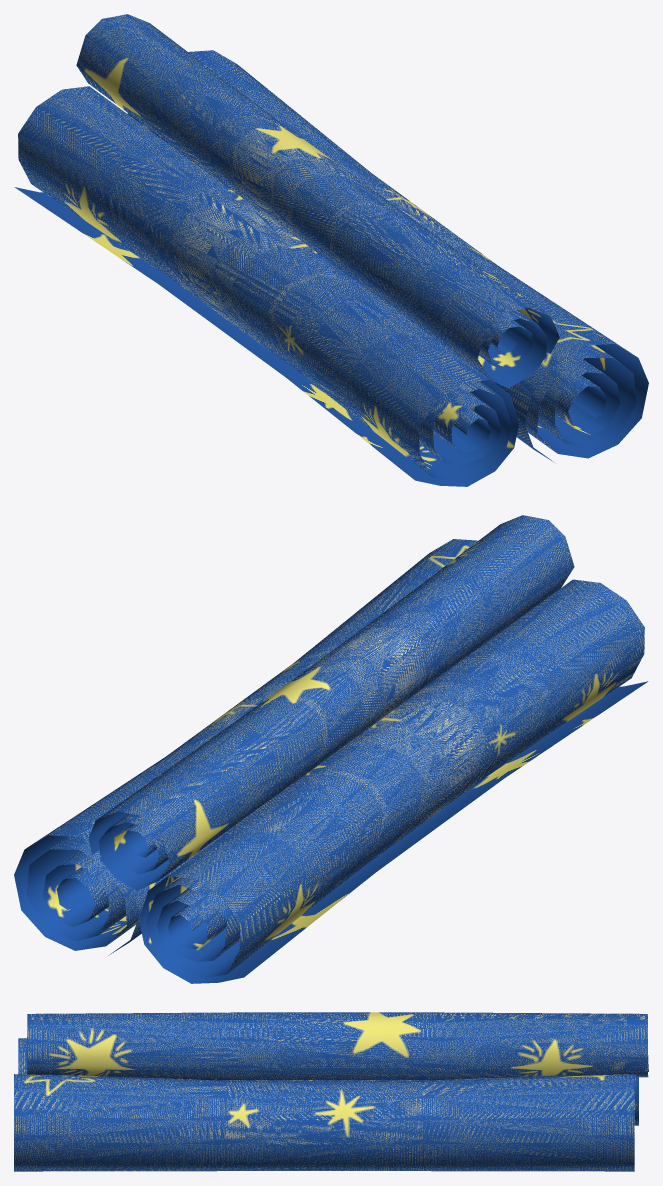
File: 156_three_paper_rolls.glb
3 views of the same model, one above another, from view 1: azimuth 30°, elevation 25°; view 2: azimuth 150°, elevation 25°; view 3: azimuth 270°, elevation 25° (orthographic). The views are drawn at different scales.
Parts seen in each view (by area): view 1: 001, 003, 001ext, 002, 003ext, 002ext; view 2: 001, 003, 001ext, 002, 003ext, 002ext; view 3: 002, 003, 002ext, 003ext, 001.
Part boxes in pixels (box(x1,y1,x2,y2)): 001: box(14, 86, 519, 486); 003: box(76, 14, 559, 388); 001ext: box(18, 87, 494, 470); 002: box(128, 50, 648, 462); 003ext: box(78, 15, 544, 375); 002ext: box(127, 50, 623, 448); 001: box(139, 579, 648, 983); 003: box(88, 515, 574, 890); 001ext: box(164, 580, 644, 966); 002: box(14, 539, 477, 955); 003ext: box(105, 516, 573, 875); 002ext: box(33, 539, 476, 942); 002: box(14, 1074, 634, 1171); 003: box(26, 1012, 648, 1080); 002ext: box(14, 1074, 634, 1171); 003ext: box(27, 1012, 648, 1080); 001: box(18, 1038, 638, 1125).
Bounding box in the file's own units: 0.5603 × 0.3742 × 1.72.
2 materials, 2 textured.
